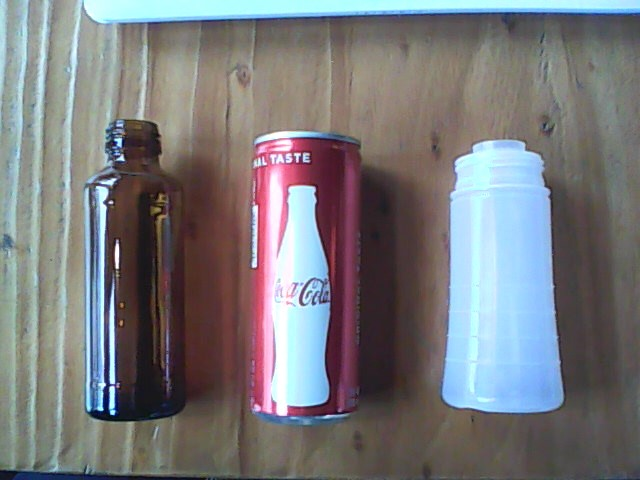Can: (242, 116, 368, 433)
Glass: (78, 114, 194, 425)
Plastic: (433, 131, 573, 421)
